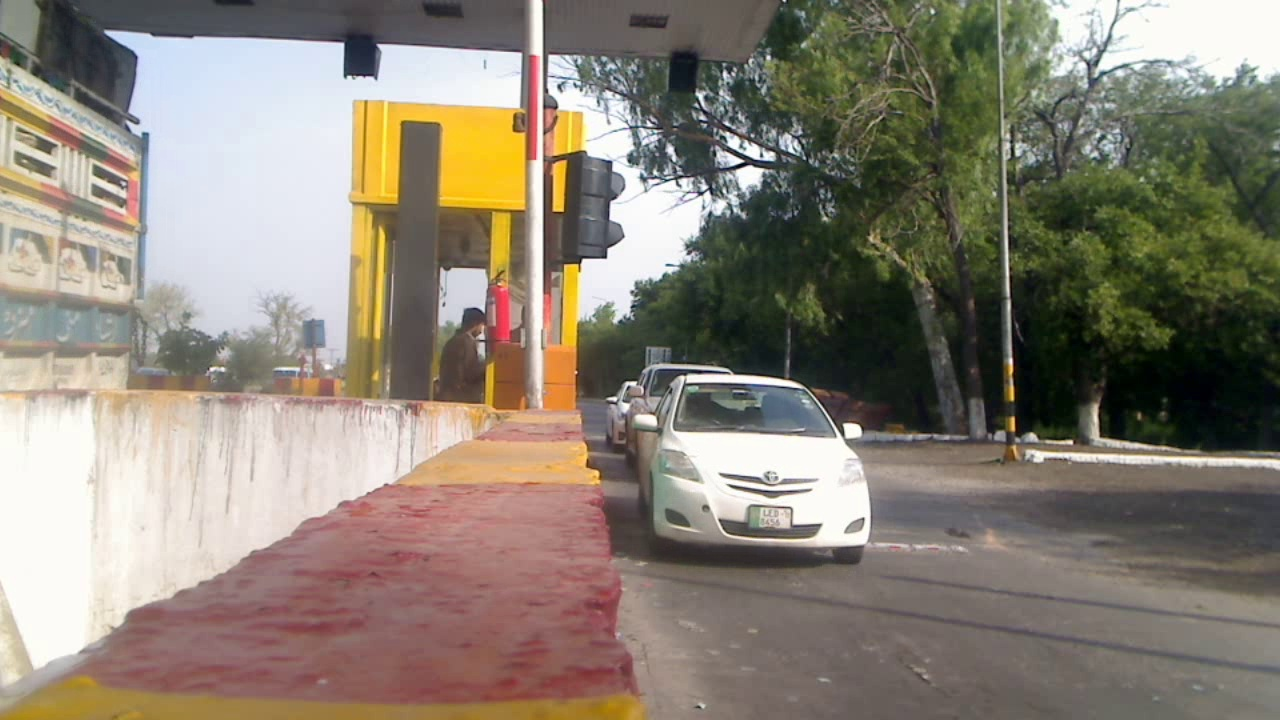Number Plate (Car): (750, 506, 792, 526)
